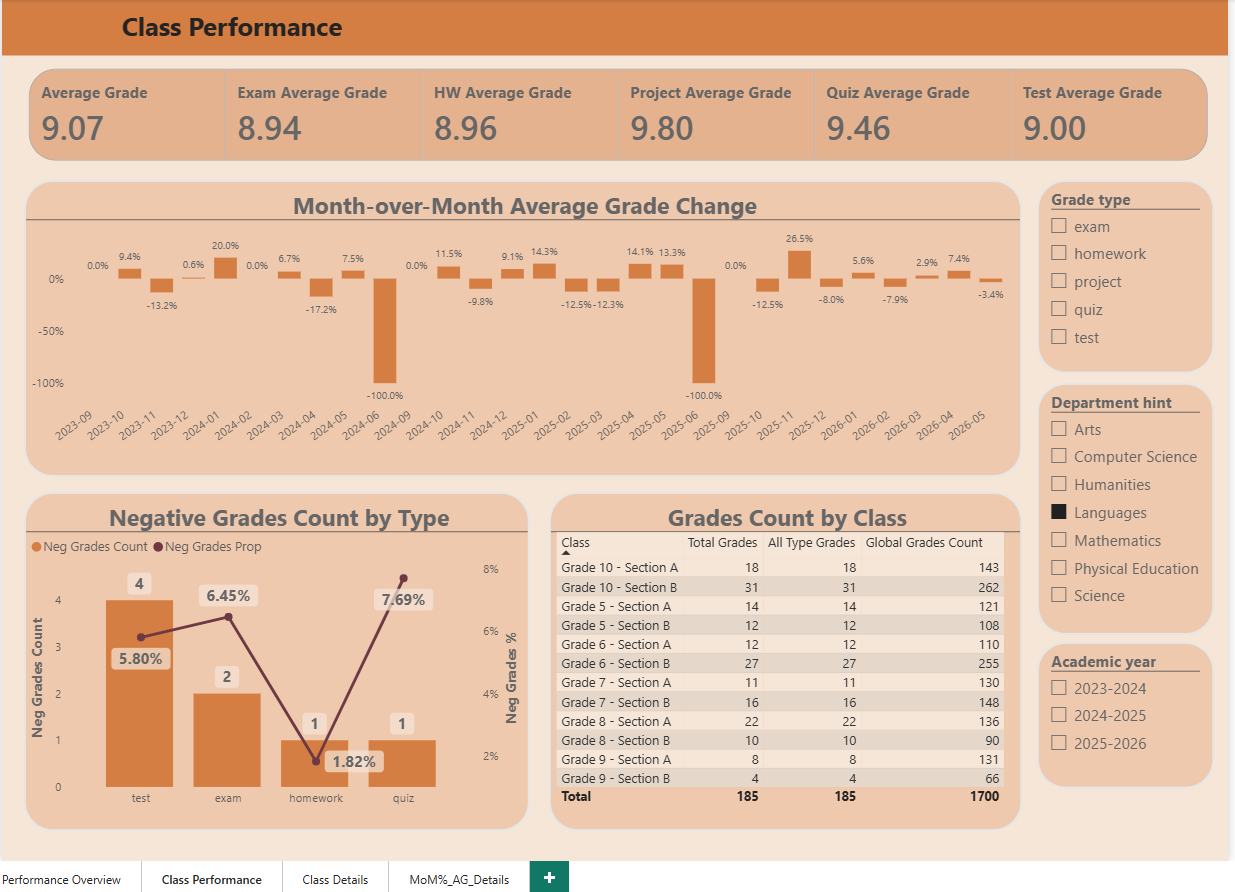

This screenshot's page, from the dashboard's own definition file:
{"tool":"powerbi","page":{"name":"Class Performance","canvas":[1280,1060],"ordinal":1},"visuals":[{"type":"cardVisual","fields":{"Data":["_Measures.Average Grade","_Measures.Exam Average Grade","_Measures.Homework Average Grade","_Measures.Project Average Grade","_Measures.Quiz Average Grade","_Measures.Test Average Grade"]},"box":[15.1,234.5,1249.5,123.4],"z":0},{"type":"textbox","box":[0,0,1280.5,58.6],"z":1000},{"type":"lineClusteredColumnComboChart","title":"Negative Grades Count  by Type","fields":{"Category":["grades.grade_type"],"Y":["_Measures.Neg Grades Count"],"Y2":["_Measures.Neg Grades Prop"]},"box":[16.5,688.5,620,353.9],"z":2000},{"type":"tableEx","title":"Grades Count by Class","fields":{"Values":["classes.class_name","_Measures.Total Grades","_Measures.All Type Grades","_Measures.Global Grades Count"]},"box":[652.9,688.6,608,355.5],"z":3000},{"type":"clusteredColumnChart","title":"Month-over-Month Average Grade Change","fields":{"Category":["Calendar.Year_Month"],"Y":["_Measures.MoM_AG%"]},"box":[16.5,364.8,1245.4,310],"z":4000},{"type":"pageNavigator","box":[15.9,58.2,1250.3,58.2],"z":5000},{"type":"slicer","fields":{"Values":["grades.grade_type"]},"box":[432.7,133.2,406.2,87.7],"z":6000},{"type":"slicer","fields":{"Values":["periods.academic_year"]},"box":[15.1,133,406,87.8],"z":7000},{"type":"slicer","fields":{"Values":["subjects.department_hint"]},"box":[855.9,133,406,87.8],"z":8000}]}

Visuals, with their boxes on the page's 1280x1060 design canvas (x1, y1, x2, y2). These are canvas units, not pixel positions in the 1235x892 screenshot, which may show the page scaled, cropped or inside an application window:
cardVisual - _Measures.Average Grade x _Measures.Exam Average Grade: [15, 234, 1265, 358]
textbox: [0, 0, 1280, 59]
"Negative Grades Count  by Type" lineClusteredColumnComboChart: [16, 688, 636, 1042]
"Grades Count by Class" tableEx: [653, 689, 1261, 1044]
"Month-over-Month Average Grade Change" clusteredColumnChart: [16, 365, 1262, 675]
pageNavigator: [16, 58, 1266, 116]
slicer - grades.grade_type: [433, 133, 839, 221]
slicer - periods.academic_year: [15, 133, 421, 221]
slicer - subjects.department_hint: [856, 133, 1262, 221]
